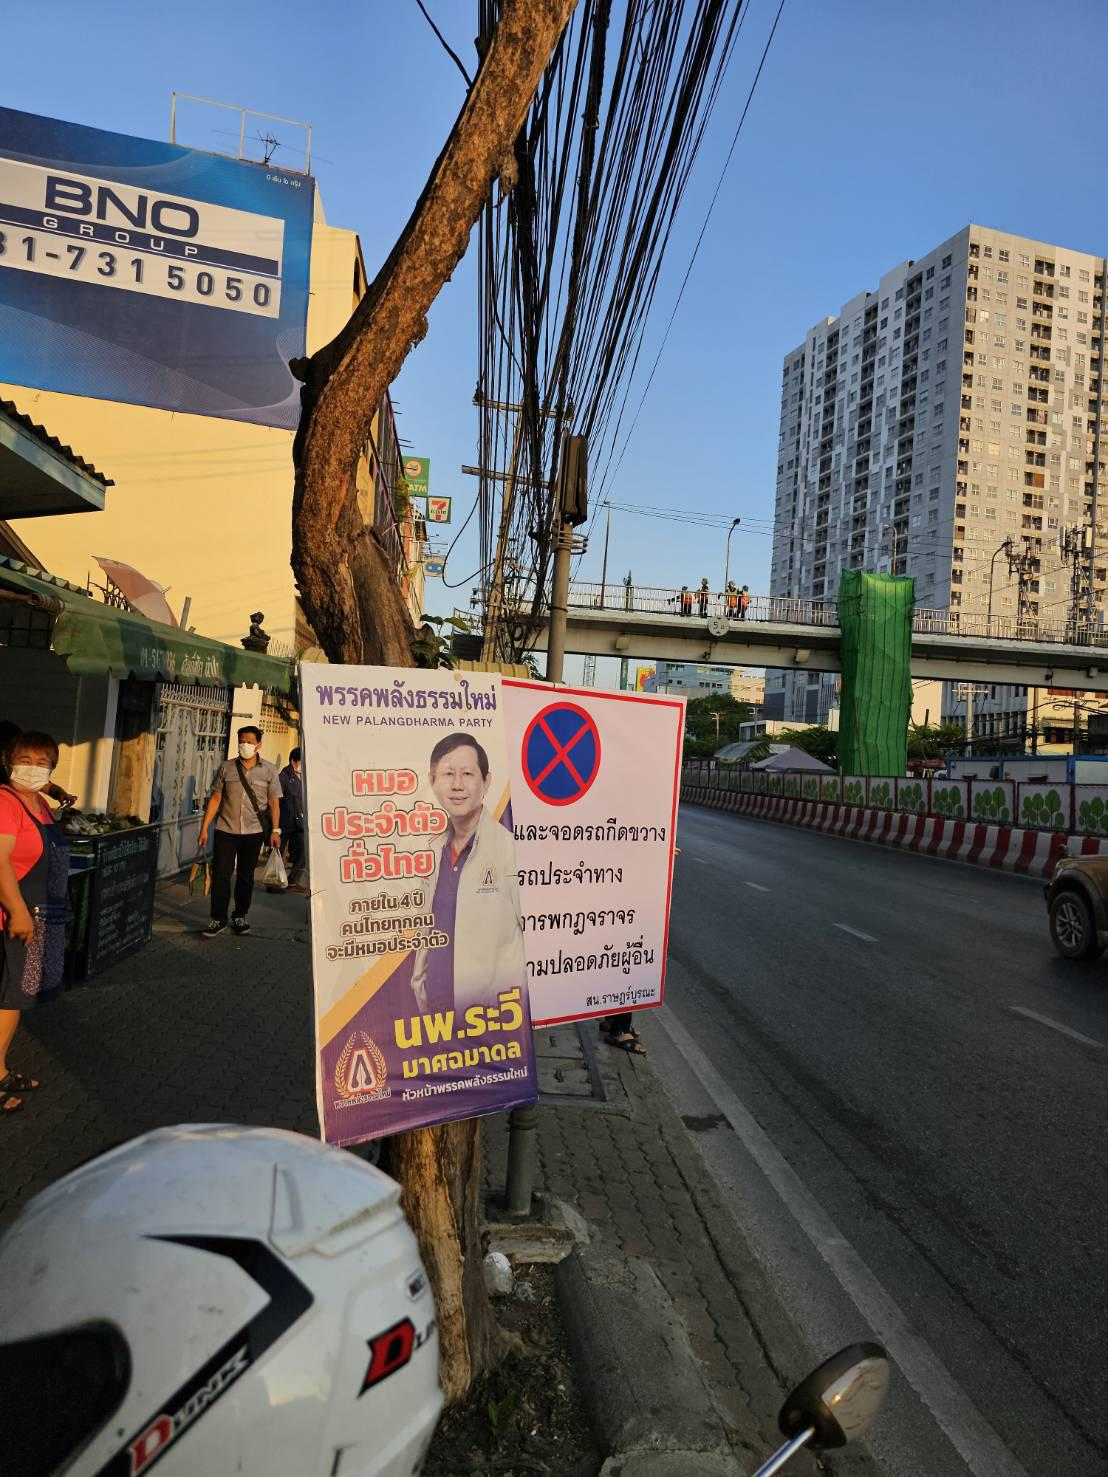Banner: (267, 644, 537, 1128)
